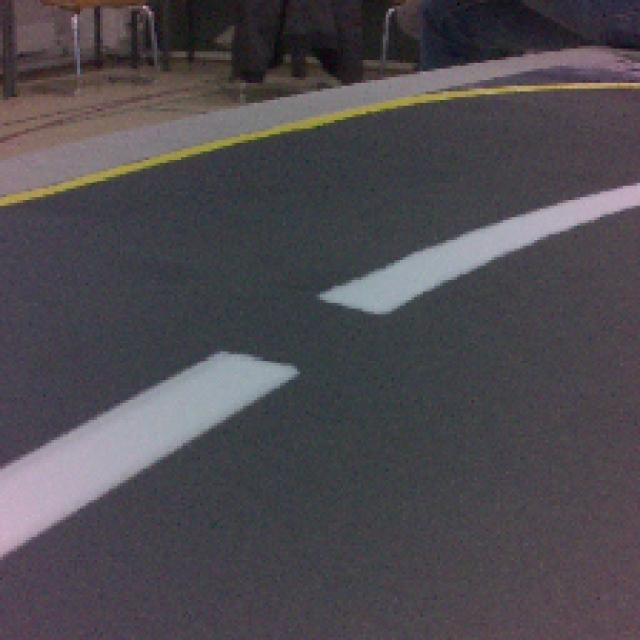Guard rail: (0, 348, 297, 551)
